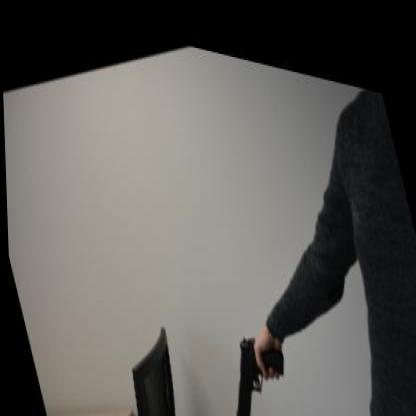pistol: (215, 300, 295, 413)
